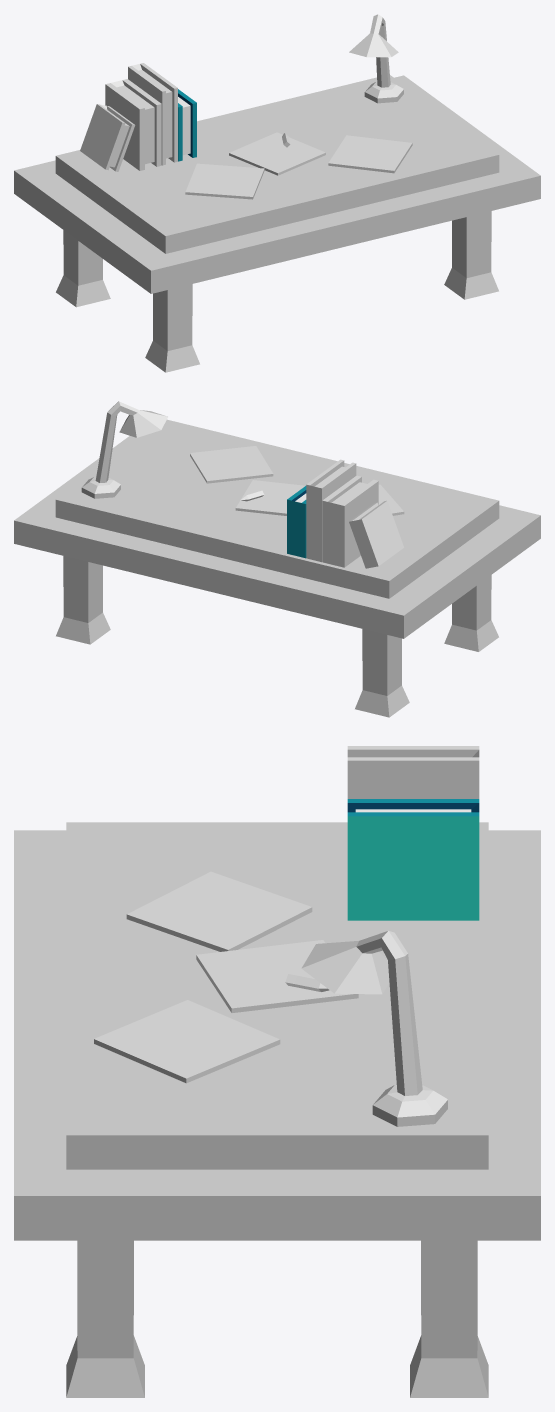
Rendered from Crafting Desk.fbx.
3 renders of one model, top to bottom at view 1: azimuth 30°, elevation 25°; view 2: azimuth 150°, elevation 25°; view 3: azimuth 270°, elevation 25°, orthographic. The views are drawn at different scales.
Parts seen in each view (by area): view 1: Desk, fat book, Leaning Book, Right paper, Left Paper, Center paper, Tall and skinny book, Lamp, small book; view 2: Desk, fat book, Lamp, Leaning Book, Right paper, Tall and skinny book, Center paper, small book; view 3: Desk, small book, Lamp, Right paper, Left Paper, Tall and skinny book, Center paper.
Boxes of the visible parts, box(x1,y1,x2,y2) form: Desk: box(14, 75, 540, 372); fat book: box(105, 79, 161, 170); Leaning Book: box(80, 104, 135, 171); Right paper: box(328, 135, 412, 173); Left Paper: box(185, 163, 264, 199); Center paper: box(229, 132, 325, 175); Tall and skinny book: box(128, 63, 177, 165); Lamp: box(349, 14, 403, 103); small book: box(178, 89, 196, 161); Desk: box(14, 419, 540, 717); fat book: box(322, 475, 378, 567); Lamp: box(81, 401, 167, 498); Leaning Book: box(349, 500, 403, 568); Right paper: box(190, 446, 273, 483); Tall and skinny book: box(306, 459, 356, 562); Center paper: box(235, 480, 305, 515); small book: box(287, 486, 306, 558); Desk: box(14, 822, 540, 1397); small book: box(347, 799, 479, 920); Lamp: box(301, 931, 447, 1126); Right paper: box(94, 1000, 280, 1083); Left Paper: box(126, 871, 312, 951); Tall and skinny book: box(347, 746, 479, 798); Center paper: box(196, 940, 358, 1012).
Bounding box in the file's own units: 328 × 181 × 200.
Materials: 2 (1 with a texture image).
